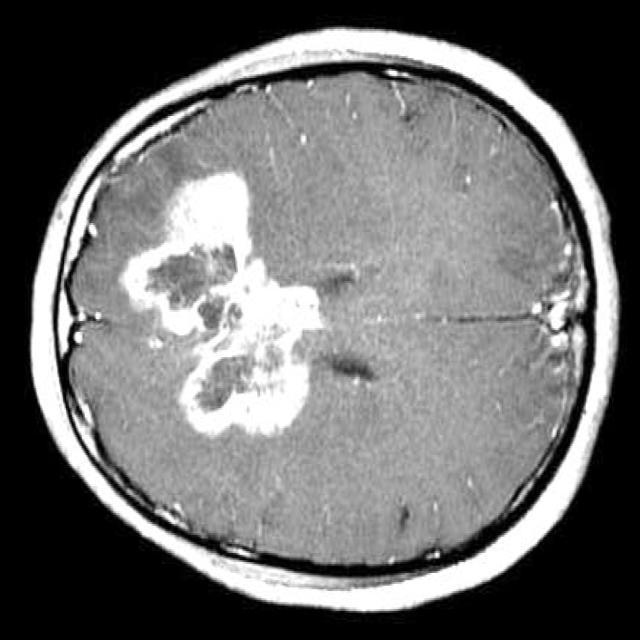Tumor: (119, 172, 322, 437)
